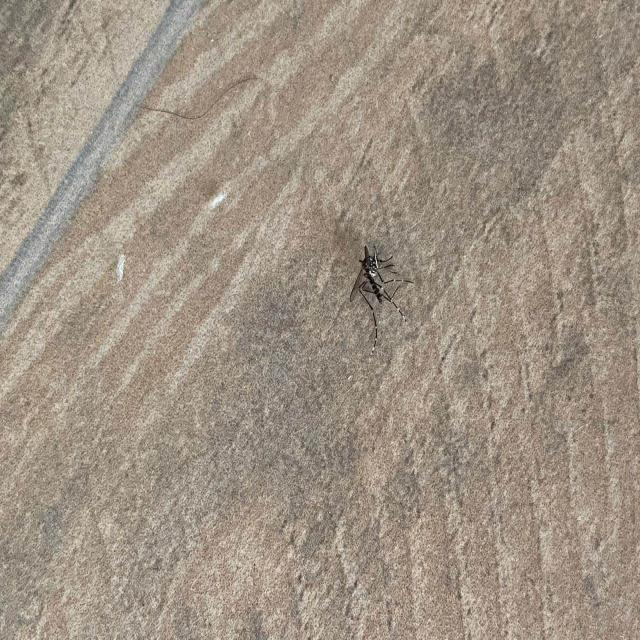albopictus: (344, 238, 416, 358)
